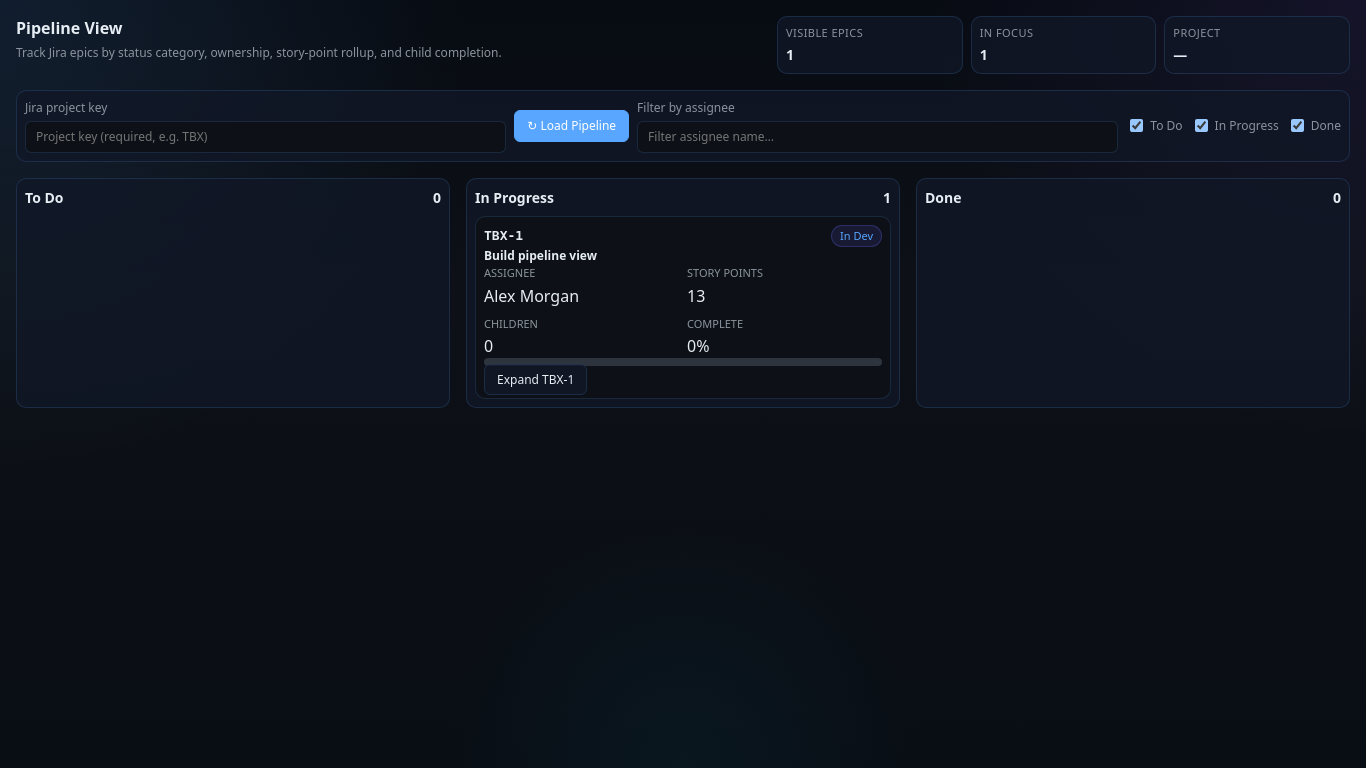
Test: PipelineView › lazy-loads children when an unloaded epic expands
Click the button with aria-label "Expand TBX-1".
click(504, 236)  # box [484, 224, 882, 390]
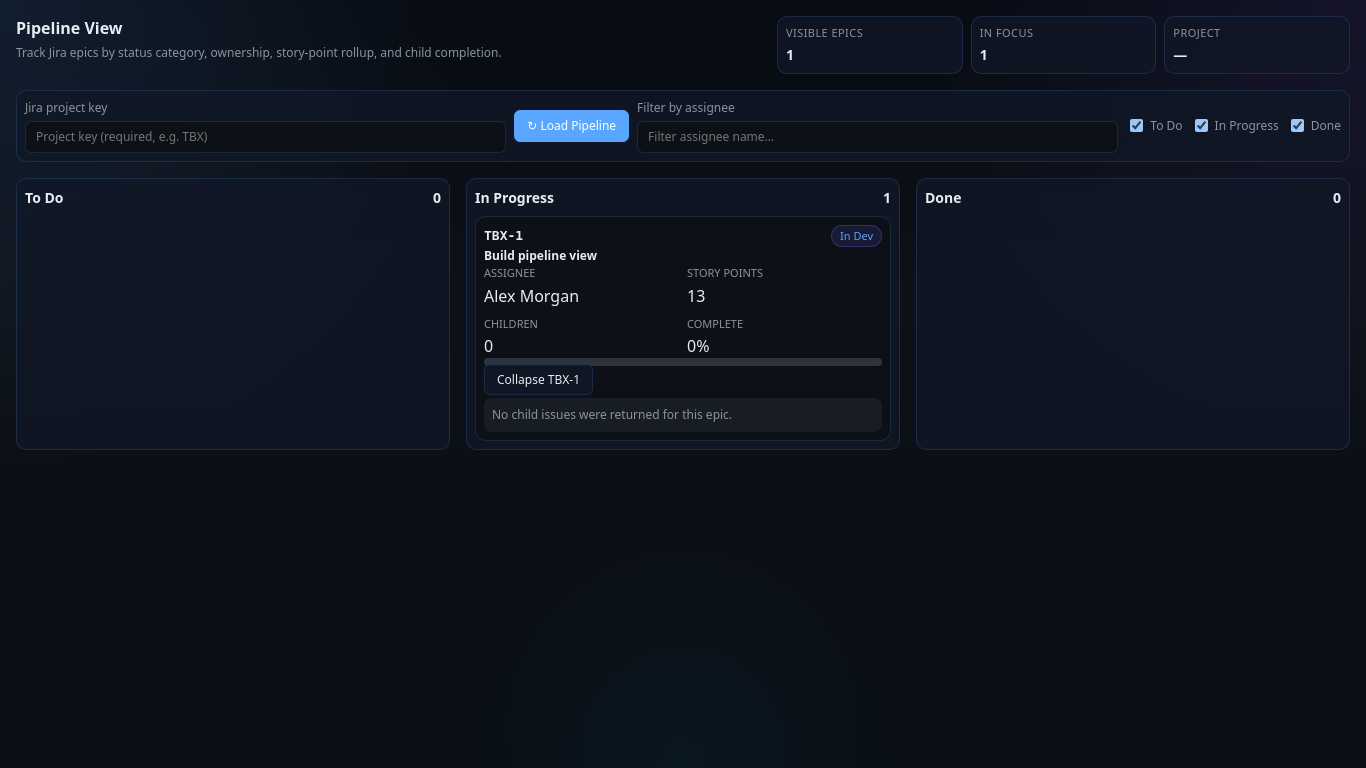
Expected: the text "No child issues were returned for this epic." is shown, [484, 398, 882, 432]
